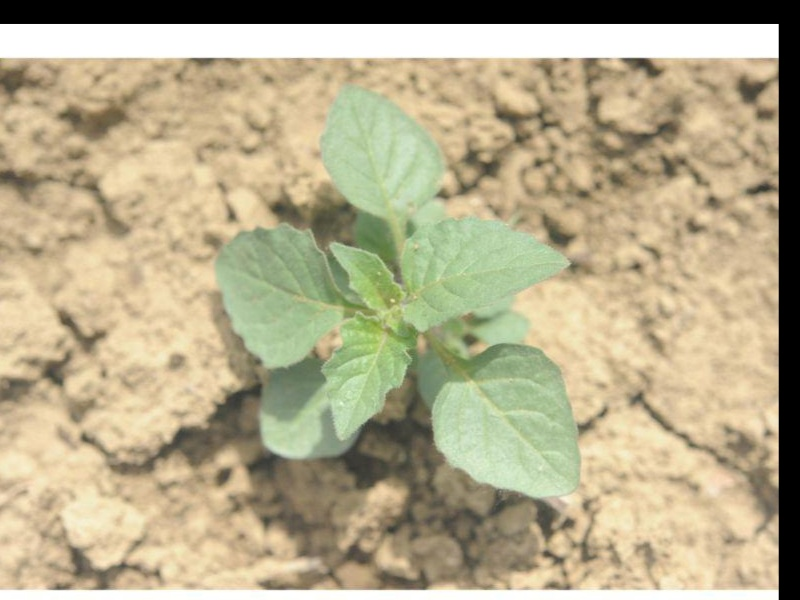nightshade: (218, 82, 579, 499)
